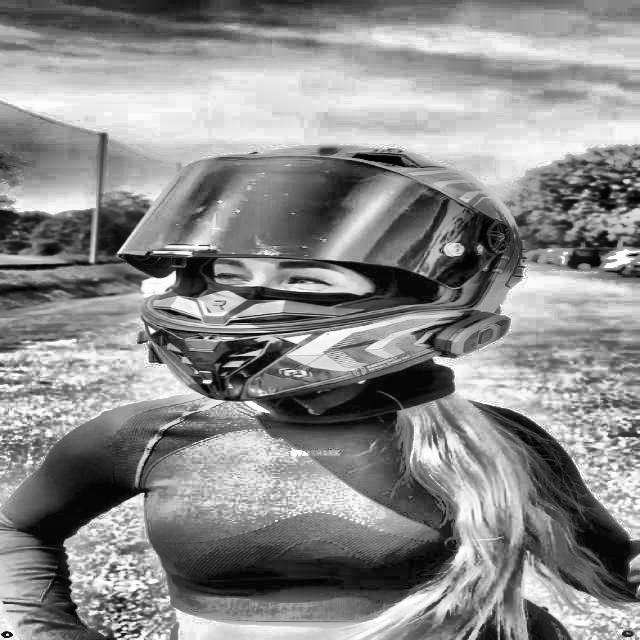Helmet: (108, 138, 529, 410)
